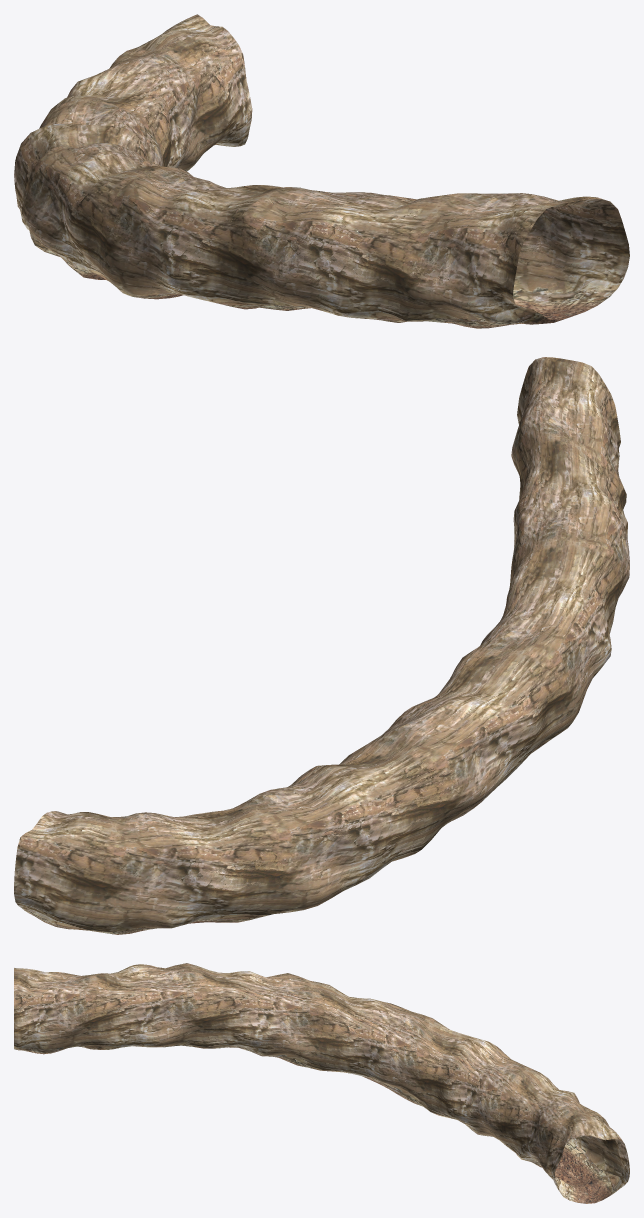
The model's file is thm_tato_cave_s01_r7_mesh_r7.fbx.
The picture shows the model from 3 angles, top to bottom: view 1: azimuth 30°, elevation 25°; view 2: azimuth 150°, elevation 25°; view 3: azimuth 270°, elevation 25°; orthographic projection. The views are drawn at different scales.
Parts seen in each view (by area): view 1: mesh_node; view 2: mesh_node; view 3: mesh_node.
Boxes of the visible parts, x1=… form: mesh_node: x1=14, y1=14, x2=629, y2=328; mesh_node: x1=14, y1=357, x2=629, y2=934; mesh_node: x1=14, y1=963, x2=629, y2=1203.
Bounding box in the file's own units: 31.15 × 26.57 × 76.18.
